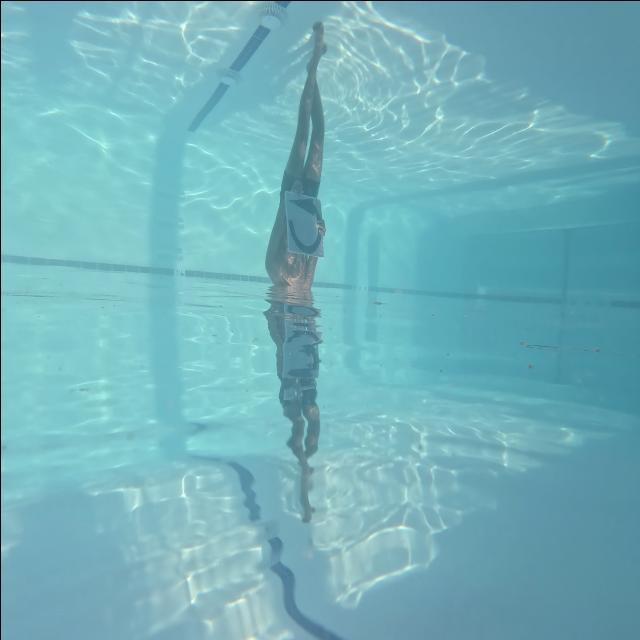blue_side: (276, 182, 332, 264)
